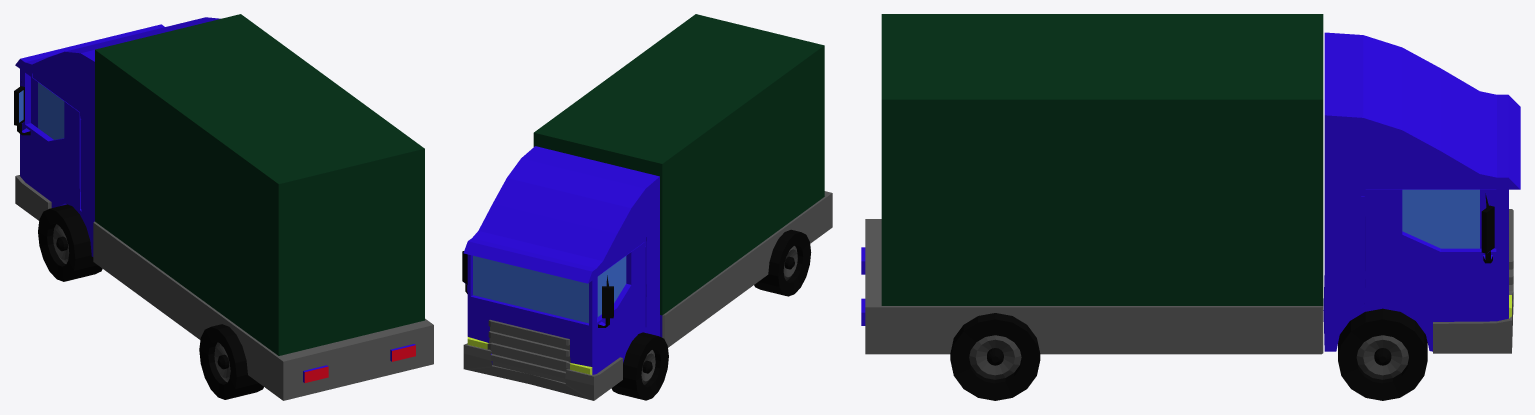
File: truck_2.fbx
The picture shows the model from 3 angles, left to right: view 1: azimuth 30°, elevation 25°; view 2: azimuth 150°, elevation 25°; view 3: azimuth 270°, elevation 25°; orthographic projection. The views are drawn at different scales.
Parts seen in each view (by area): view 1: Truck4; view 2: Truck4; view 3: Truck4.
Part boxes in pixels (bbox=[...]): Truck4: bbox=[14, 14, 433, 400]; Truck4: bbox=[462, 14, 832, 400]; Truck4: bbox=[861, 14, 1520, 400].
Size of the model in its own units: 92.1 by 124 by 253.
